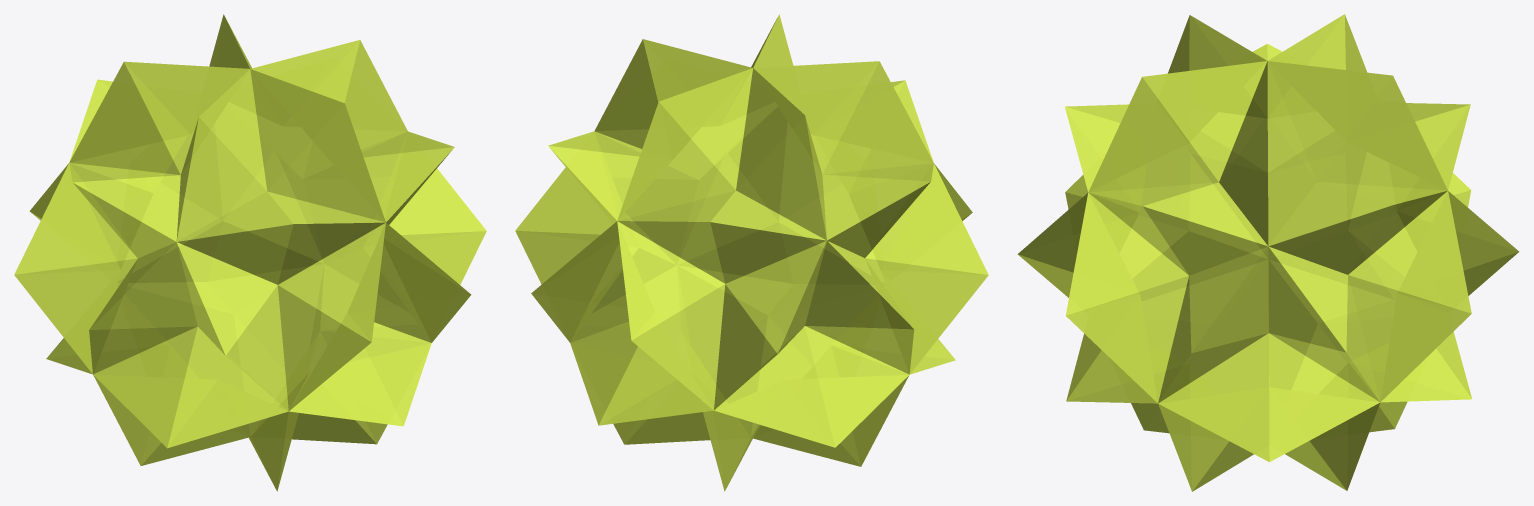
Rendered from Mobius120a.obj.
The picture shows the model from 3 angles, left to right: view 1: azimuth 30°, elevation 25°; view 2: azimuth 150°, elevation 25°; view 3: azimuth 270°, elevation 25°; orthographic projection. The views are drawn at different scales.
Size of the model in its own units: 3.62 by 3.25 by 3.8.
